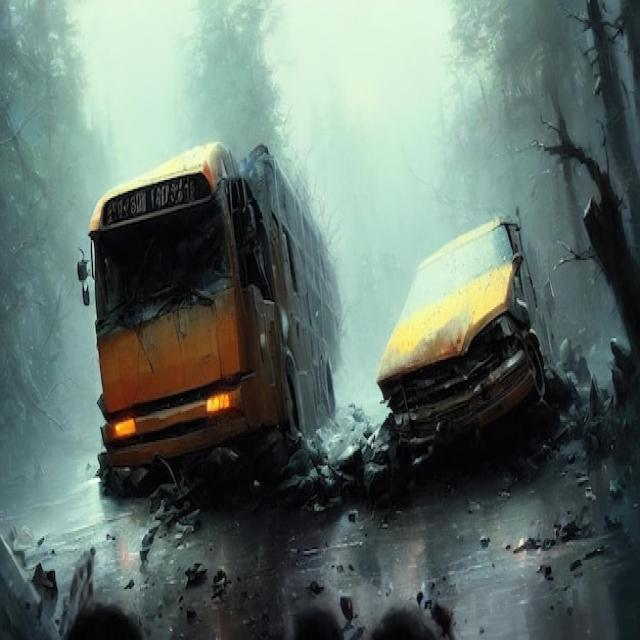Accident: (74, 140, 576, 522)
